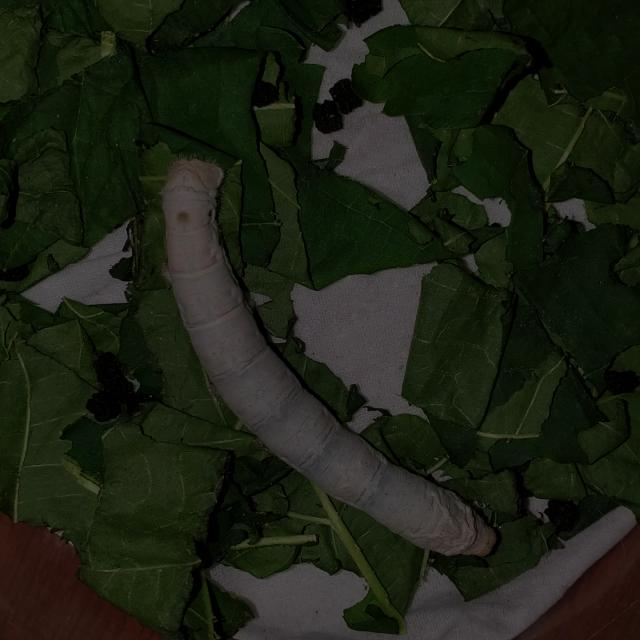Healthy: (145, 141, 501, 567)
